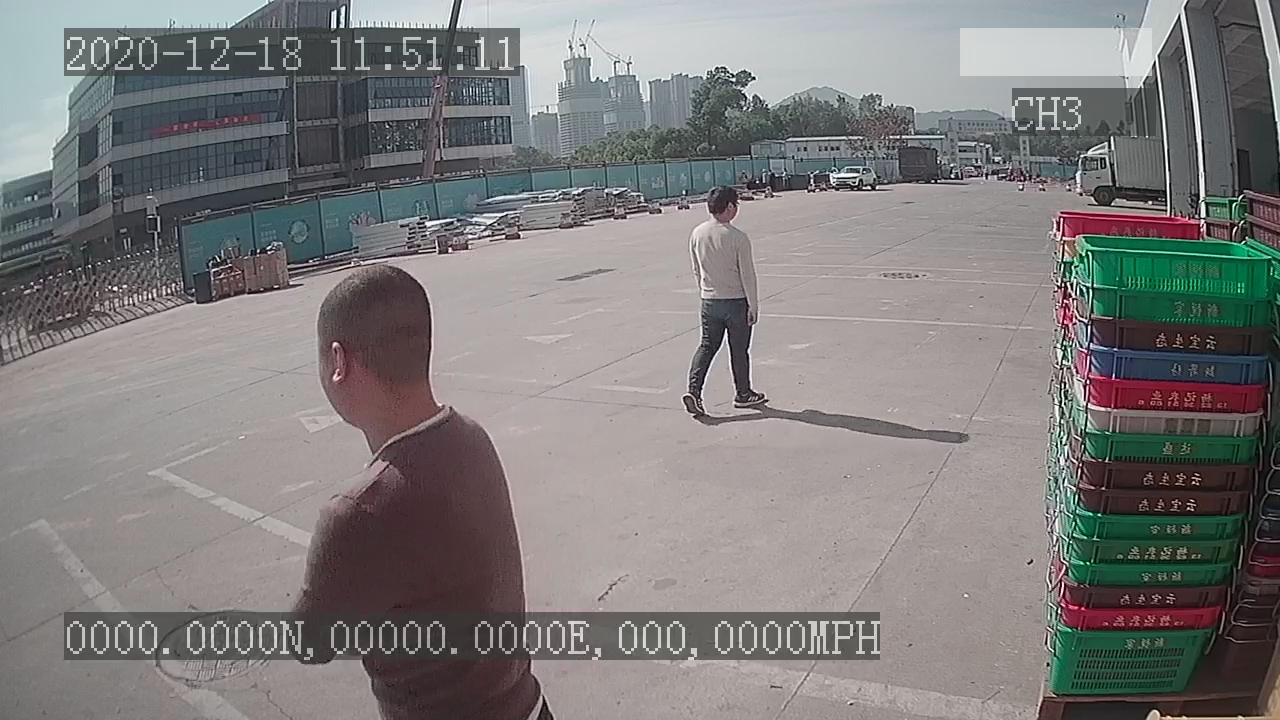person: (674, 181, 774, 424)
